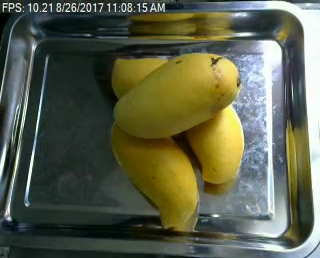Mango: (112, 52, 238, 139), (108, 117, 198, 232), (182, 99, 252, 188), (110, 54, 170, 102)
